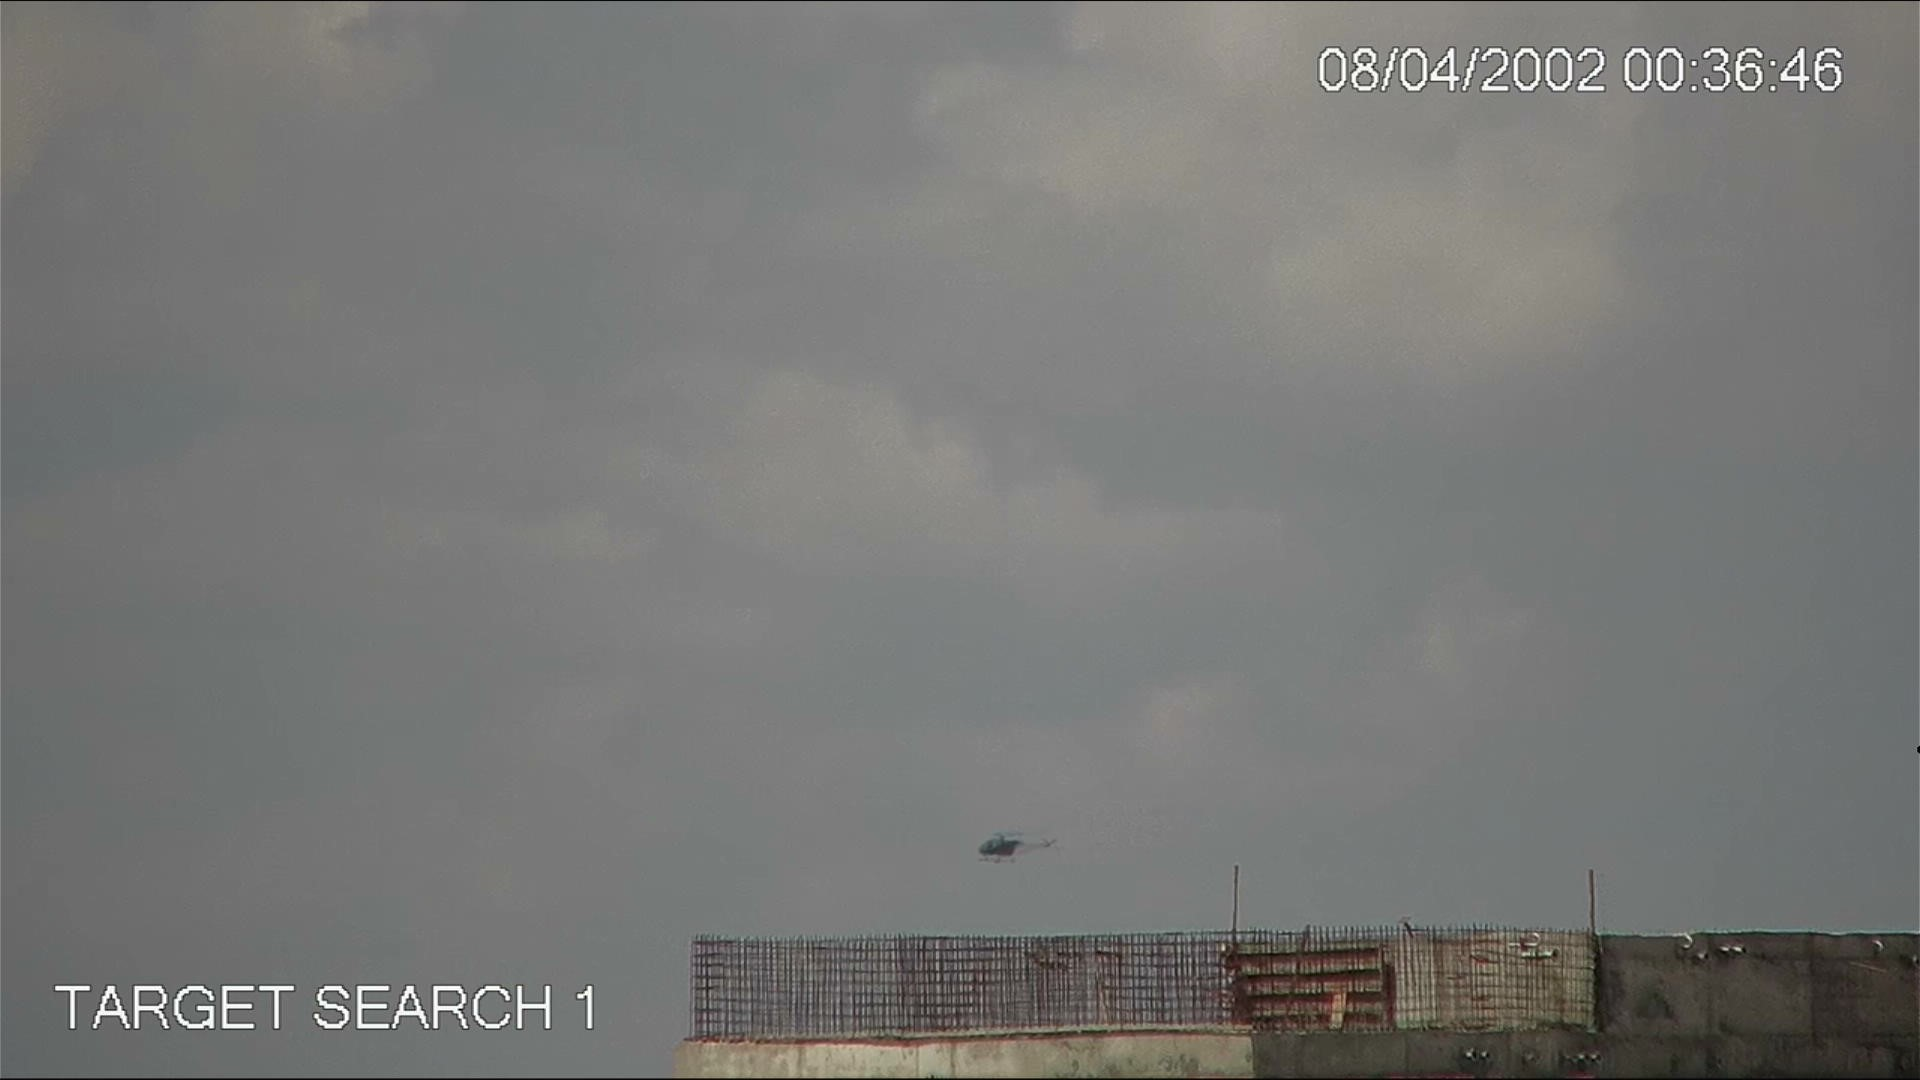SU_30: (972, 825, 1062, 862)
